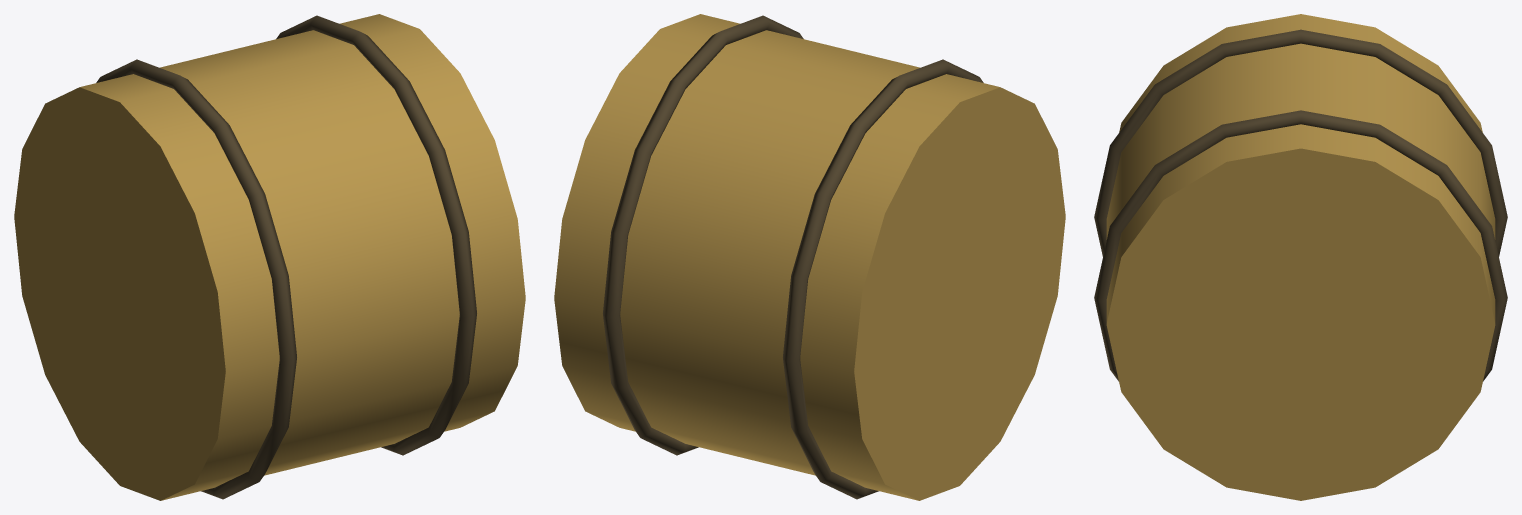
File: hay-bale.glb
3 views of the same model, side by side, from view 1: azimuth 30°, elevation 25°; view 2: azimuth 150°, elevation 25°; view 3: azimuth 270°, elevation 25° (orthographic). The views are drawn at different scales.
Parts seen in each view (by area): view 1: bale, band--0.27, band-0.27; view 2: bale, band--0.27, band-0.27; view 3: bale, band-0.27, band--0.27.
Part boxes in pixels (x1=…): bale: x1=14, y1=14, x2=525, y2=500; band--0.27: x1=96, y1=59, x2=296, y2=499; band-0.27: x1=276, y1=15, x2=476, y2=455; bale: x1=554, y1=14, x2=1065, y2=500; band--0.27: x1=783, y1=59, x2=983, y2=499; band-0.27: x1=603, y1=15, x2=803, y2=455; bale: x1=1106, y1=14, x2=1495, y2=500; band-0.27: x1=1094, y1=110, x2=1507, y2=381; band--0.27: x1=1094, y1=29, x2=1507, y2=256.
Bounding box in the file's own units: 0.9 × 1.17 × 1.17.
